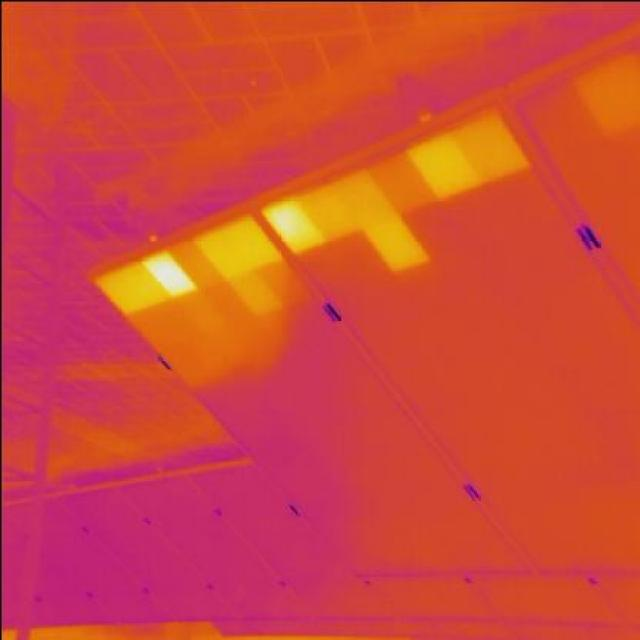hotspot: (454, 106, 531, 186), (402, 132, 476, 212), (363, 211, 432, 272), (142, 245, 202, 306), (223, 265, 280, 329), (265, 194, 323, 252), (94, 264, 158, 316), (200, 225, 242, 278)
